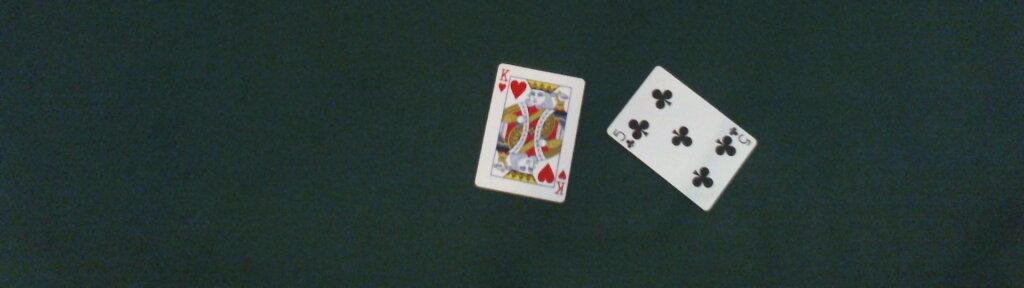five: (607, 66, 758, 212)
king: (475, 63, 585, 203)
